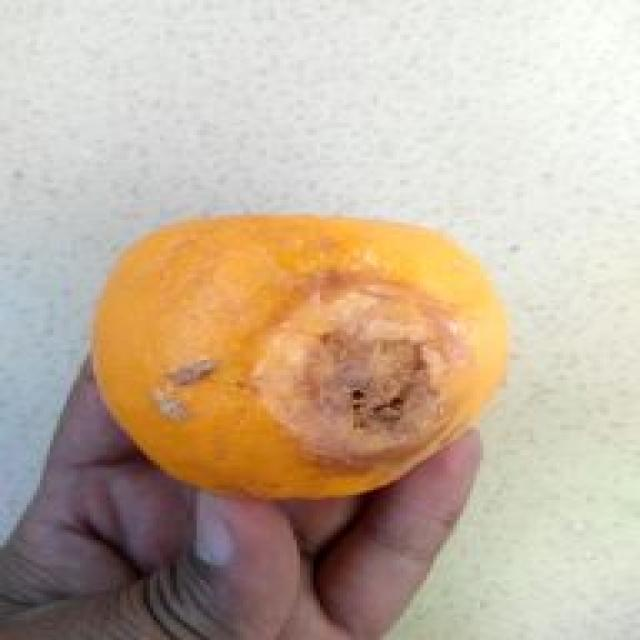Bad_Orange: (93, 215, 507, 499)
